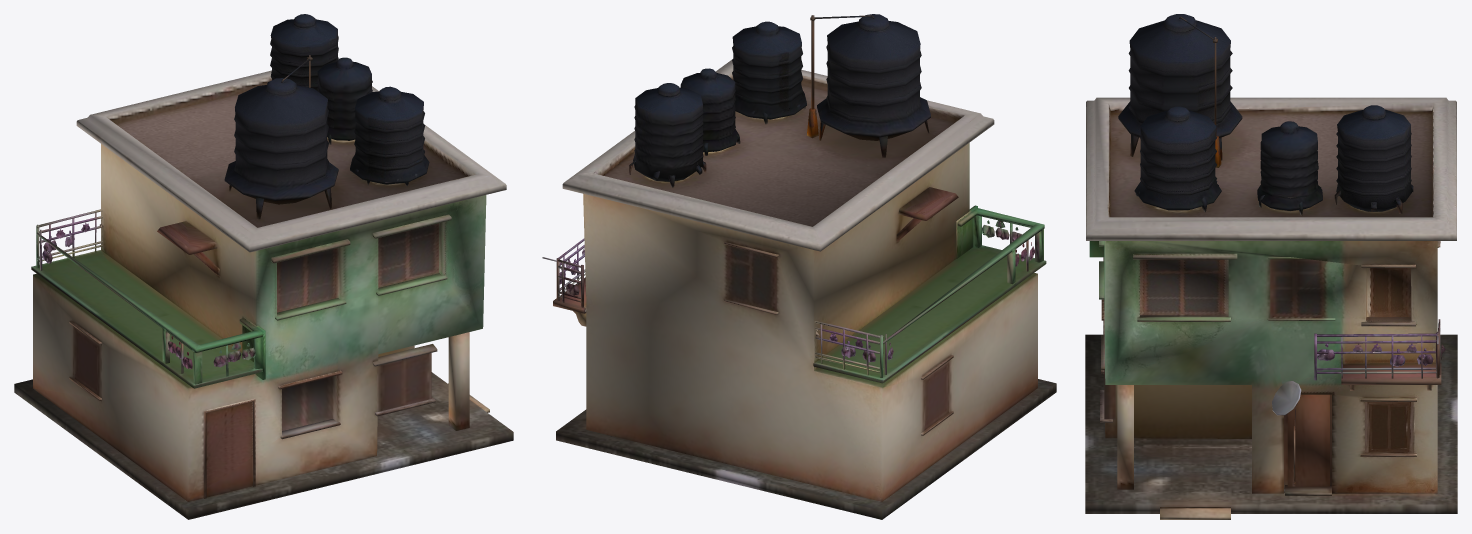
Rendered from water-tank+rooftop+house+3d+model.glb.
The picture shows the model from 3 angles, left to right: view 1: azimuth 30°, elevation 25°; view 2: azimuth 150°, elevation 25°; view 3: azimuth 270°, elevation 25°; orthographic projection. The views are drawn at different scales.
Parts seen in each view (by area): view 1: tripo_node_64791c9f-e4a3-4a5b-b891-f36fd054469b; view 2: tripo_node_64791c9f-e4a3-4a5b-b891-f36fd054469b; view 3: tripo_node_64791c9f-e4a3-4a5b-b891-f36fd054469b.
Boxes of the visible parts, <box> form: tripo_node_64791c9f-e4a3-4a5b-b891-f36fd054469b: <box>14,14,513,519</box>; tripo_node_64791c9f-e4a3-4a5b-b891-f36fd054469b: <box>542,14,1056,519</box>; tripo_node_64791c9f-e4a3-4a5b-b891-f36fd054469b: <box>1085,14,1457,519</box>.
Bounding box in the file's own units: 0.9668 × 0.998 × 0.8379.
1 material, 1 textured.
